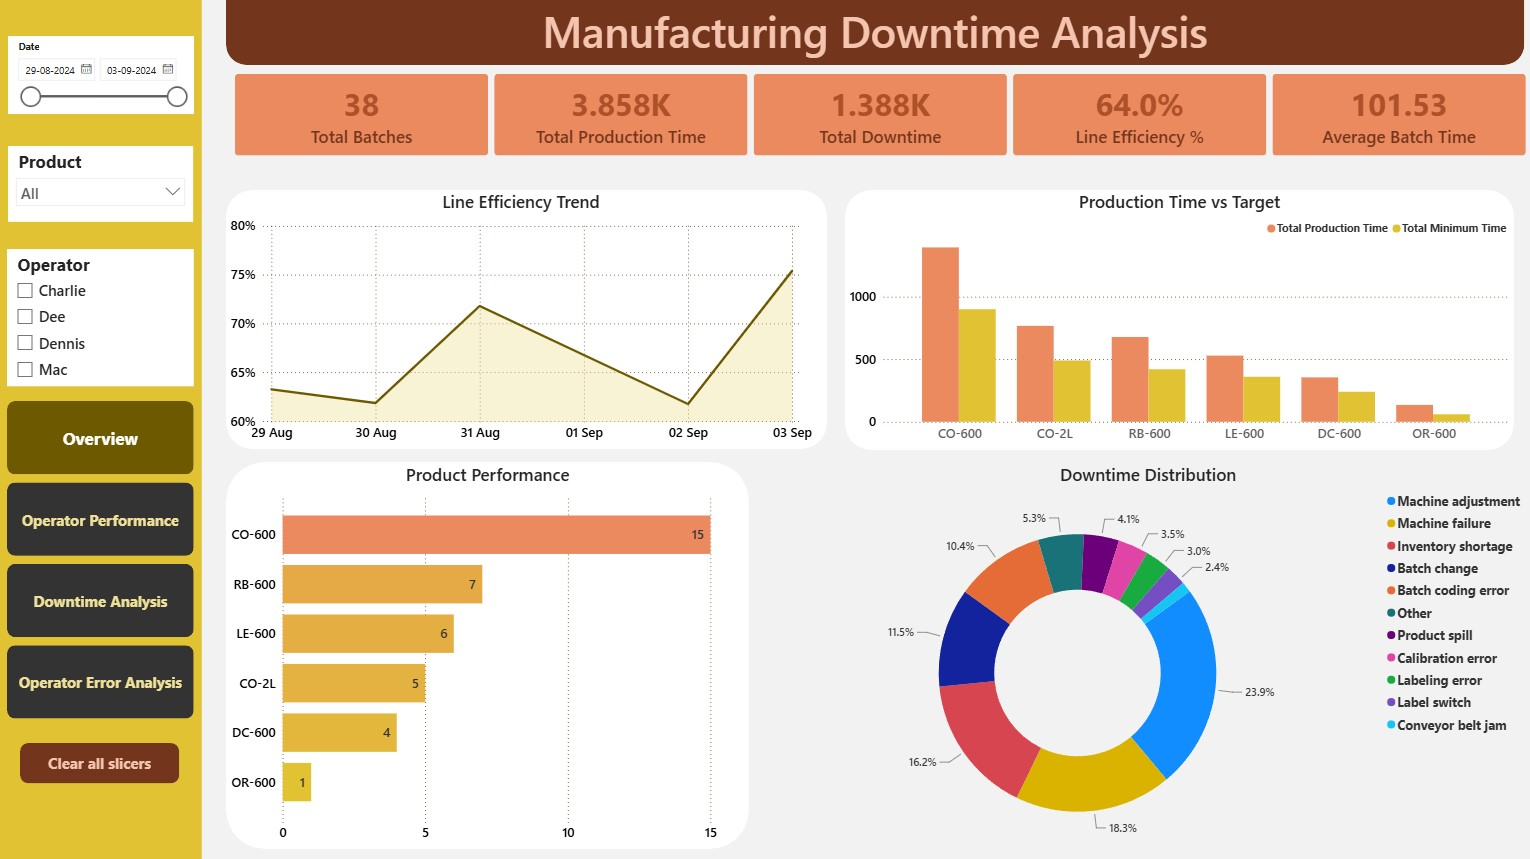

What the dashboard file says about the page in this screenshot:
{"tool":"powerbi","page":{"name":"Overview","canvas":[1920,1080],"ordinal":0},"visuals":[{"type":"shape","box":[0,0,254,1080.7],"z":0},{"type":"shape","box":[284.6,0,1626.7,83.8],"z":0,"group":"g1"},{"type":"shape","box":[284.4,240.6,753,324.5],"z":0,"group":"g2"},{"type":"shape","box":[1060,240.9,838.2,325.8],"z":0,"group":"g4"},{"type":"shape","box":[284.4,581.3,655.3,484.9],"z":0,"group":"g3"},{"type":"textbox","box":[284.6,0,1626.7,83.8],"z":1000,"group":"g1"},{"type":"cardVisual","fields":{"Data":[" Measures.Total Batches"," Measures.Total Actual Time"," Measures.Total Downtime"," Measures.Line Efficiency %"," Measures.Average Batch Time"]},"box":[296,95.8,1617,102],"z":1000},{"type":"slicer","fields":{"Values":["Line productivity.Date"]},"box":[11.2,47.7,233,96.8],"z":2000},{"type":"slicer","fields":{"Values":["Line productivity.Product"]},"box":[11.2,185.3,231.6,95.4],"z":3000},{"type":"lineChart","title":"Line Efficiency Trend","fields":{"Y":[" Measures.Line Efficiency %"],"Category":["Line productivity.Date.Variation.Date Hierarchy.Year","Line productivity.Date.Variation.Date Hierarchy.Quarter","Line productivity.Date.Variation.Date Hierarchy.Month","Line productivity.Date.Variation.Date Hierarchy.Day"]},"box":[284.4,240.6,739.2,324.5],"z":3000,"group":"g2"},{"type":"slicer","fields":{"Values":["Line productivity.Operator"]},"box":[10.6,313.9,234.1,171.6],"z":4000},{"type":"donutChart","title":"Downtime Distribution","fields":{"Category":["Downtime factors.Description"],"Y":[" Measures.Total Downtime"]},"box":[960,582.2,960,498.1],"z":5000},{"type":"clusteredColumnChart","title":"Production Time vs Target","fields":{"Y":[" Measures.Total Production Time"," Measures.Total Minimum Time"],"Category":["Line productivity.Product"]},"box":[1060,240.6,838.2,325.8],"z":6000,"group":"g4"},{"type":"pageNavigator","box":[10.6,505.4,234.1,399],"z":6000},{"type":"group","id":"g1","title":"Group 1","box":[284.6,0,1626.7,83.8],"z":7000},{"type":"clusteredBarChart","title":"Product Performance","fields":{"Category":["Line productivity.Product"],"Y":[" Measures.Total Batches"]},"box":[284.6,582.5,655.7,484.1],"z":7000,"group":"g3"},{"type":"group","id":"g2","title":"Group 2","box":[284.4,240.6,753,324.5],"z":8000},{"type":"group","id":"g3","title":"Group 3","box":[284.4,581.3,655.9,485.4],"z":9000},{"type":"group","id":"g4","title":"Group 4","box":[1060,240.6,838.2,325.8],"z":10000},{"type":"actionButton","box":[26.6,933.7,199.5,50.5],"z":11000}]}

Visuals, with their boxes in screenshot pixels (x1, y1, x2, y2), scaled from the page's 1920x1080 canvas onto the 1530x859 screenshot:
shape: crop(0, 0, 202, 858)
shape: crop(227, 0, 1523, 67)
shape: crop(227, 191, 827, 449)
shape: crop(845, 192, 1513, 451)
shape: crop(227, 462, 749, 848)
textbox: crop(227, 0, 1523, 67)
cardVisual -  Measures.Total Batches x  Measures.Total Actual Time: crop(236, 76, 1524, 157)
slicer - Line productivity.Date: crop(9, 38, 195, 115)
slicer - Line productivity.Product: crop(9, 147, 193, 223)
"Line Efficiency Trend" lineChart: crop(227, 191, 816, 449)
slicer - Line productivity.Operator: crop(8, 250, 195, 386)
"Downtime Distribution" donutChart: crop(765, 463, 1529, 858)
"Production Time vs Target" clusteredColumnChart: crop(845, 191, 1513, 450)
pageNavigator: crop(8, 402, 195, 719)
"Group 1" group: crop(227, 0, 1523, 67)
"Product Performance" clusteredBarChart: crop(227, 463, 749, 848)
"Group 2" group: crop(227, 191, 827, 449)
"Group 3" group: crop(227, 462, 749, 848)
"Group 4" group: crop(845, 191, 1513, 450)
actionButton: crop(21, 743, 180, 783)
